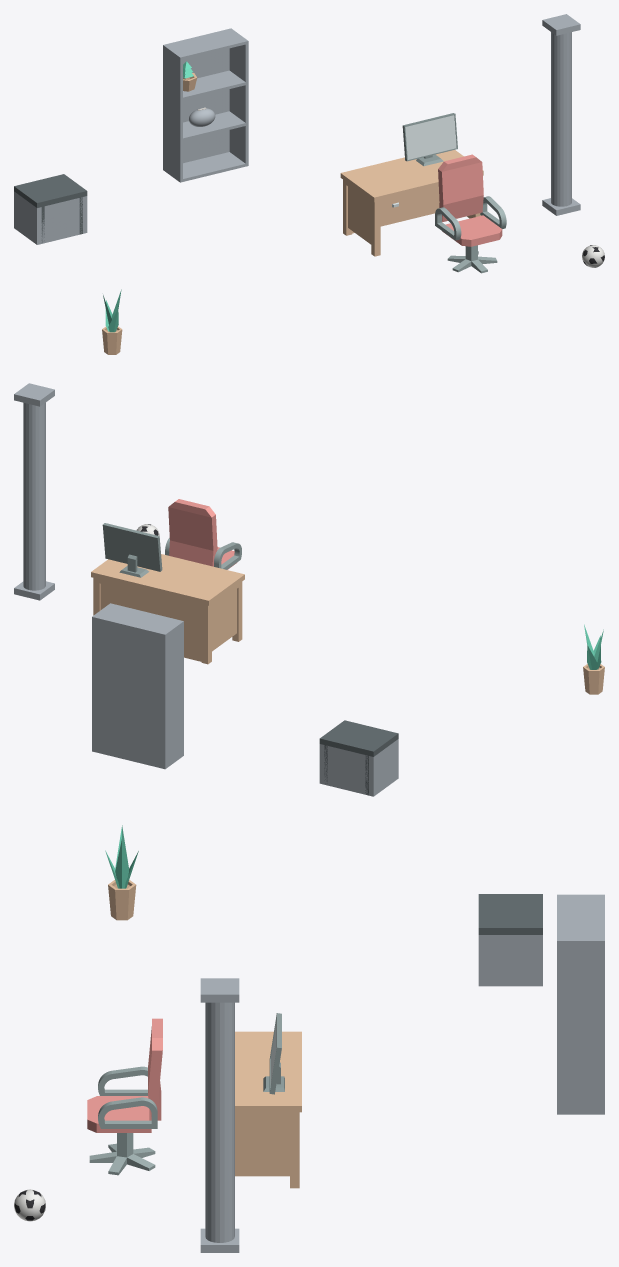
The picture shows the model from 3 angles, top to bottom: view 1: azimuth 30°, elevation 25°; view 2: azimuth 150°, elevation 25°; view 3: azimuth 270°, elevation 25°; orthographic projection. The views are drawn at different scales.
Visible parts, largest first — view 1: desk_blue__desk(Clone), deskchair_black__chair, column_cyan__column_cyan shaft, shelf_orange__shelf_orange back, crate_red__crate_red shell, shelf_orange__shelf_orange side_l, monitor_gray__computerScreen(Clone), shelf_orange__shelf_orange side_r, crate_red__crate_red lid, shelf_orange__shelf_orange board3, shelf_orange__shelf_orange board0, shelf_orange__shelf_orange board2 (+4 smaller); view 2: shelf_orange__shelf_orange back, desk_blue__desk(Clone), column_cyan__column_cyan shaft, deskchair_black__chair, crate_red__crate_red shell, shelf_orange__shelf_orange side_l, monitor_gray__computerScreen(Clone), crate_red__crate_red lid, shelf_orange__shelf_orange board3, column_cyan__column_cyan capital; view 3: desk_blue__desk(Clone), shelf_orange__shelf_orange side_r, column_cyan__column_cyan shaft, deskchair_black__chair, crate_red__crate_red shell, crate_red__crate_red lid, shelf_orange__shelf_orange board3, deskchair_black__chairDesk(Clone), column_cyan__column_cyan capital, monitor_gray__computerScreen(Clone), plant_pink__pottedPlant(Clone), soccer_white__soccer_white (+2 smaller).
Part boxes in pixels (bbox=[...]): desk_blue__desk(Clone): bbox=[340, 150, 483, 256]; deskchair_black__chair: bbox=[435, 154, 506, 246]; column_cyan__column_cyan shaft: bbox=[551, 32, 571, 206]; shelf_orange__shelf_orange back: bbox=[166, 29, 229, 163]; crate_red__crate_red shell: bbox=[14, 191, 87, 244]; shelf_orange__shelf_orange side_l: bbox=[163, 44, 182, 182]; monitor_gray__computerScreen(Clone): bbox=[402, 113, 457, 166]; shelf_orange__shelf_orange side_r: bbox=[229, 28, 248, 166]; crate_red__crate_red lid: bbox=[14, 174, 87, 207]; shelf_orange__shelf_orange board3: bbox=[167, 30, 245, 59]; shelf_orange__shelf_orange board0: bbox=[183, 152, 245, 181]; shelf_orange__shelf_orange board2: bbox=[183, 70, 245, 100]; shelf_orange__shelf_orange back: bbox=[94, 617, 163, 768]; desk_blue__desk(Clone): bbox=[91, 554, 244, 664]; column_cyan__column_cyan shaft: bbox=[23, 402, 45, 590]; deskchair_black__chair: bbox=[165, 499, 241, 569]; crate_red__crate_red shell: bbox=[319, 739, 398, 796]; shelf_orange__shelf_orange side_l: bbox=[162, 620, 183, 769]; monitor_gray__computerScreen(Clone): bbox=[102, 523, 162, 577]; crate_red__crate_red lid: bbox=[319, 720, 398, 756]; shelf_orange__shelf_orange board3: bbox=[96, 604, 180, 632]; column_cyan__column_cyan capital: bbox=[14, 383, 54, 406]; desk_blue__desk(Clone): bbox=[235, 1031, 301, 1188]; shelf_orange__shelf_orange side_r: bbox=[557, 939, 604, 1114]; column_cyan__column_cyan shaft: bbox=[205, 1002, 234, 1242]; deskchair_black__chair: bbox=[87, 1018, 162, 1132]; crate_red__crate_red shell: bbox=[478, 935, 542, 986]; crate_red__crate_red lid: bbox=[478, 894, 542, 934]; shelf_orange__shelf_orange board3: bbox=[557, 896, 601, 938]; deskchair_black__chairDesk(Clone): bbox=[89, 1133, 155, 1175]; column_cyan__column_cyan capital: bbox=[200, 978, 239, 1002]; monitor_gray__computerScreen(Clone): bbox=[263, 1013, 284, 1094]; plant_pink__pottedPlant(Clone): bbox=[108, 880, 136, 920]; soccer_white__soccer_white: bbox=[14, 1189, 45, 1221].
Bounding box in the file's own units: 5.56 × 1.95 × 4.04.
